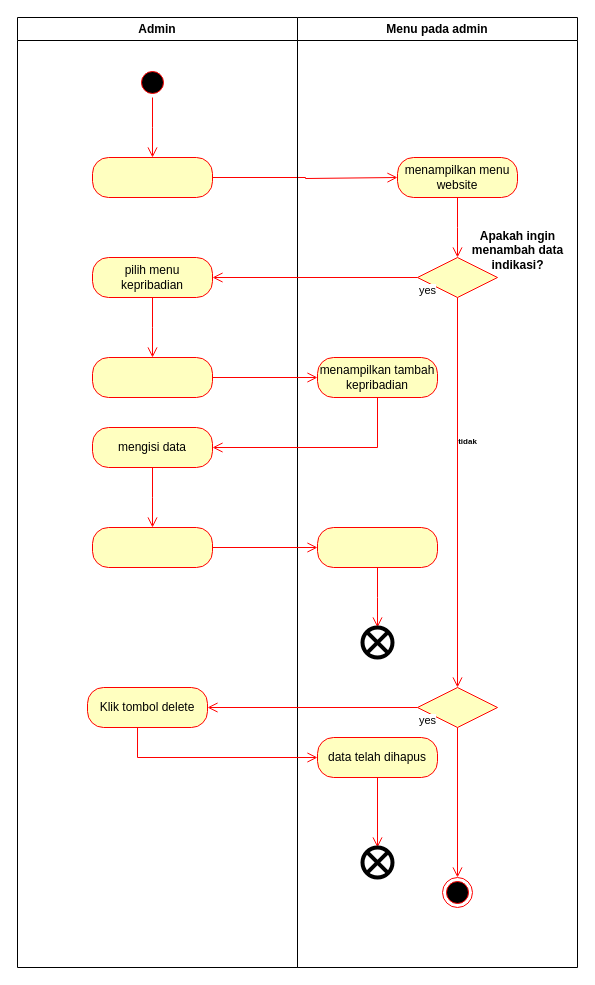
Image size: 595x985. Some labels were removed from this diagram. Here are the shapes that lost their labels. From the top down, the centre of each, then its label:
the point at 152,177: Masuk menu
the point at 152,377: Memilih tambah kepribadian
the point at 152,547: klik simpan
the point at 377,547: data telah disimpan
